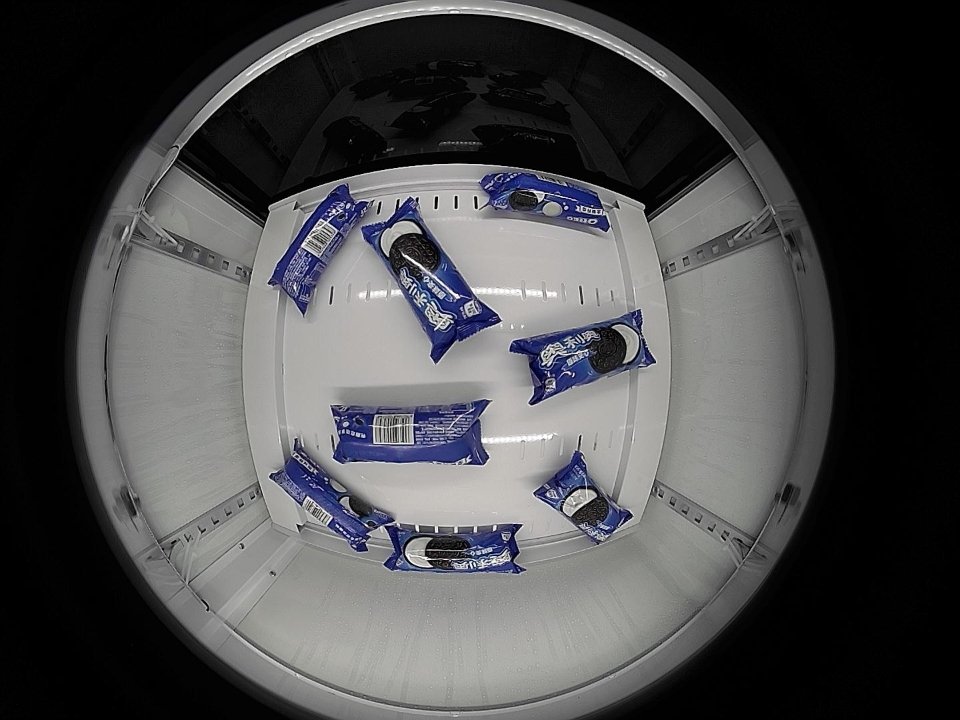aoliao: (360, 199, 501, 355), (270, 441, 393, 557), (511, 316, 652, 398), (262, 189, 357, 299), (528, 451, 634, 549), (329, 404, 484, 466), (487, 168, 606, 229), (388, 529, 518, 574)
